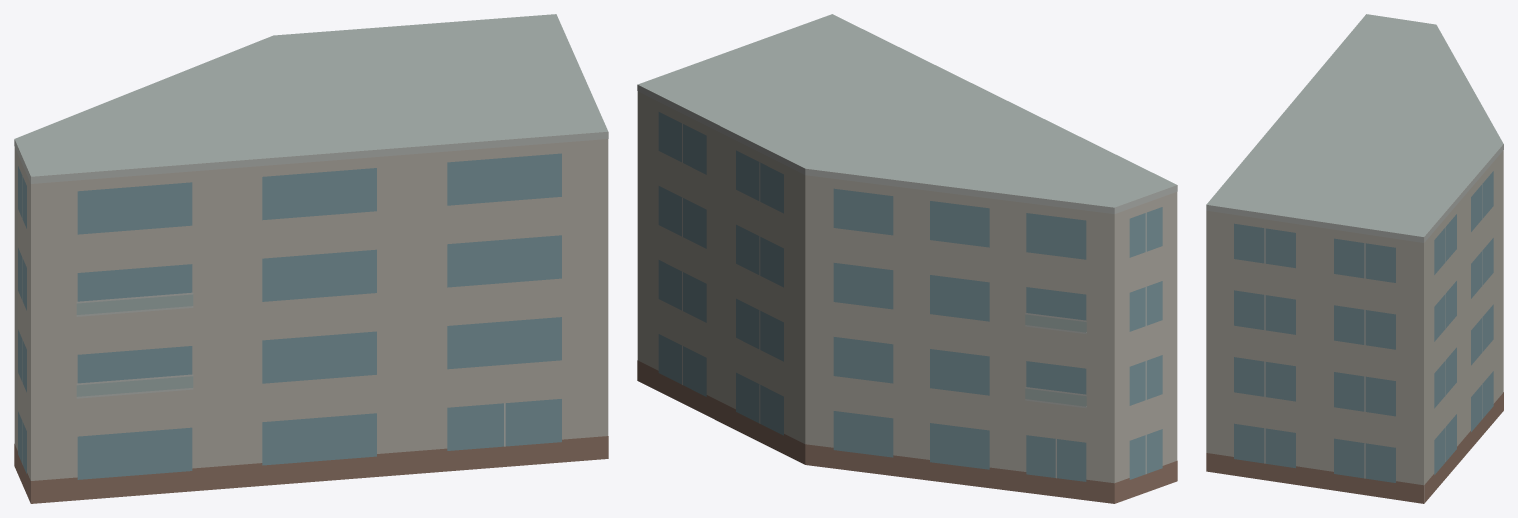
The model's file is survey-upis-32970780.glb.
3 views of the same model, side by side, from view 1: azimuth 30°, elevation 25°; view 2: azimuth 150°, elevation 25°; view 3: azimuth 270°, elevation 25° (orthographic). The views are drawn at different scales.
Visible parts, largest first — view 1: survey-upis-32970780.tmp; view 2: survey-upis-32970780.tmp; view 3: survey-upis-32970780.tmp.
Boxes of the visible parts, <box> form: survey-upis-32970780.tmp: <box>14,14,608,503</box>; survey-upis-32970780.tmp: <box>637,14,1177,503</box>; survey-upis-32970780.tmp: <box>1206,14,1503,503</box>.
Bounding box in the file's own units: 19.75 × 11 × 11.13.
